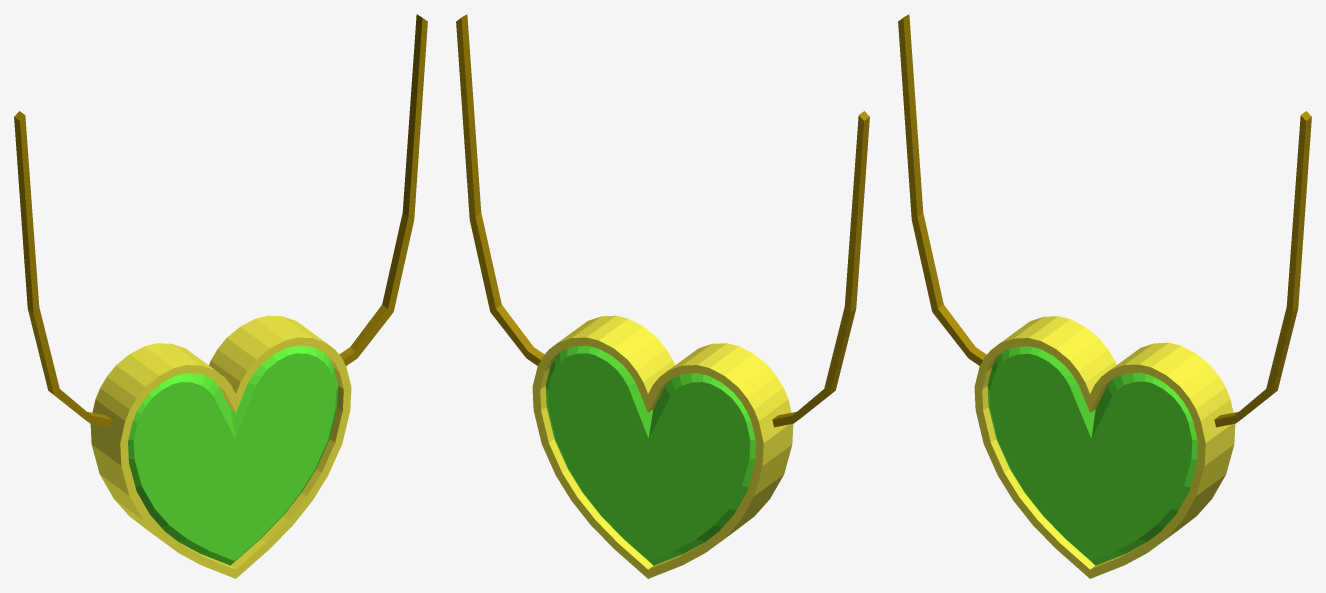
Rendered from wind_pendant.glb.
The picture shows the model from 3 angles, left to right: view 1: azimuth 30°, elevation 25°; view 2: azimuth 150°, elevation 25°; view 3: azimuth 330°, elevation 25°; orthographic projection.
Visible parts, largest first — view 1: WindPendant; view 2: WindPendant; view 3: WindPendant.
Boxes of the visible parts, <box> form: WindPendant: <box>14,14,427,578</box>; WindPendant: <box>456,14,869,578</box>; WindPendant: <box>898,14,1311,578</box>.
Size of the model in its own units: 0.7909 by 0.9327 by 0.1.
1 material, 1 textured.
